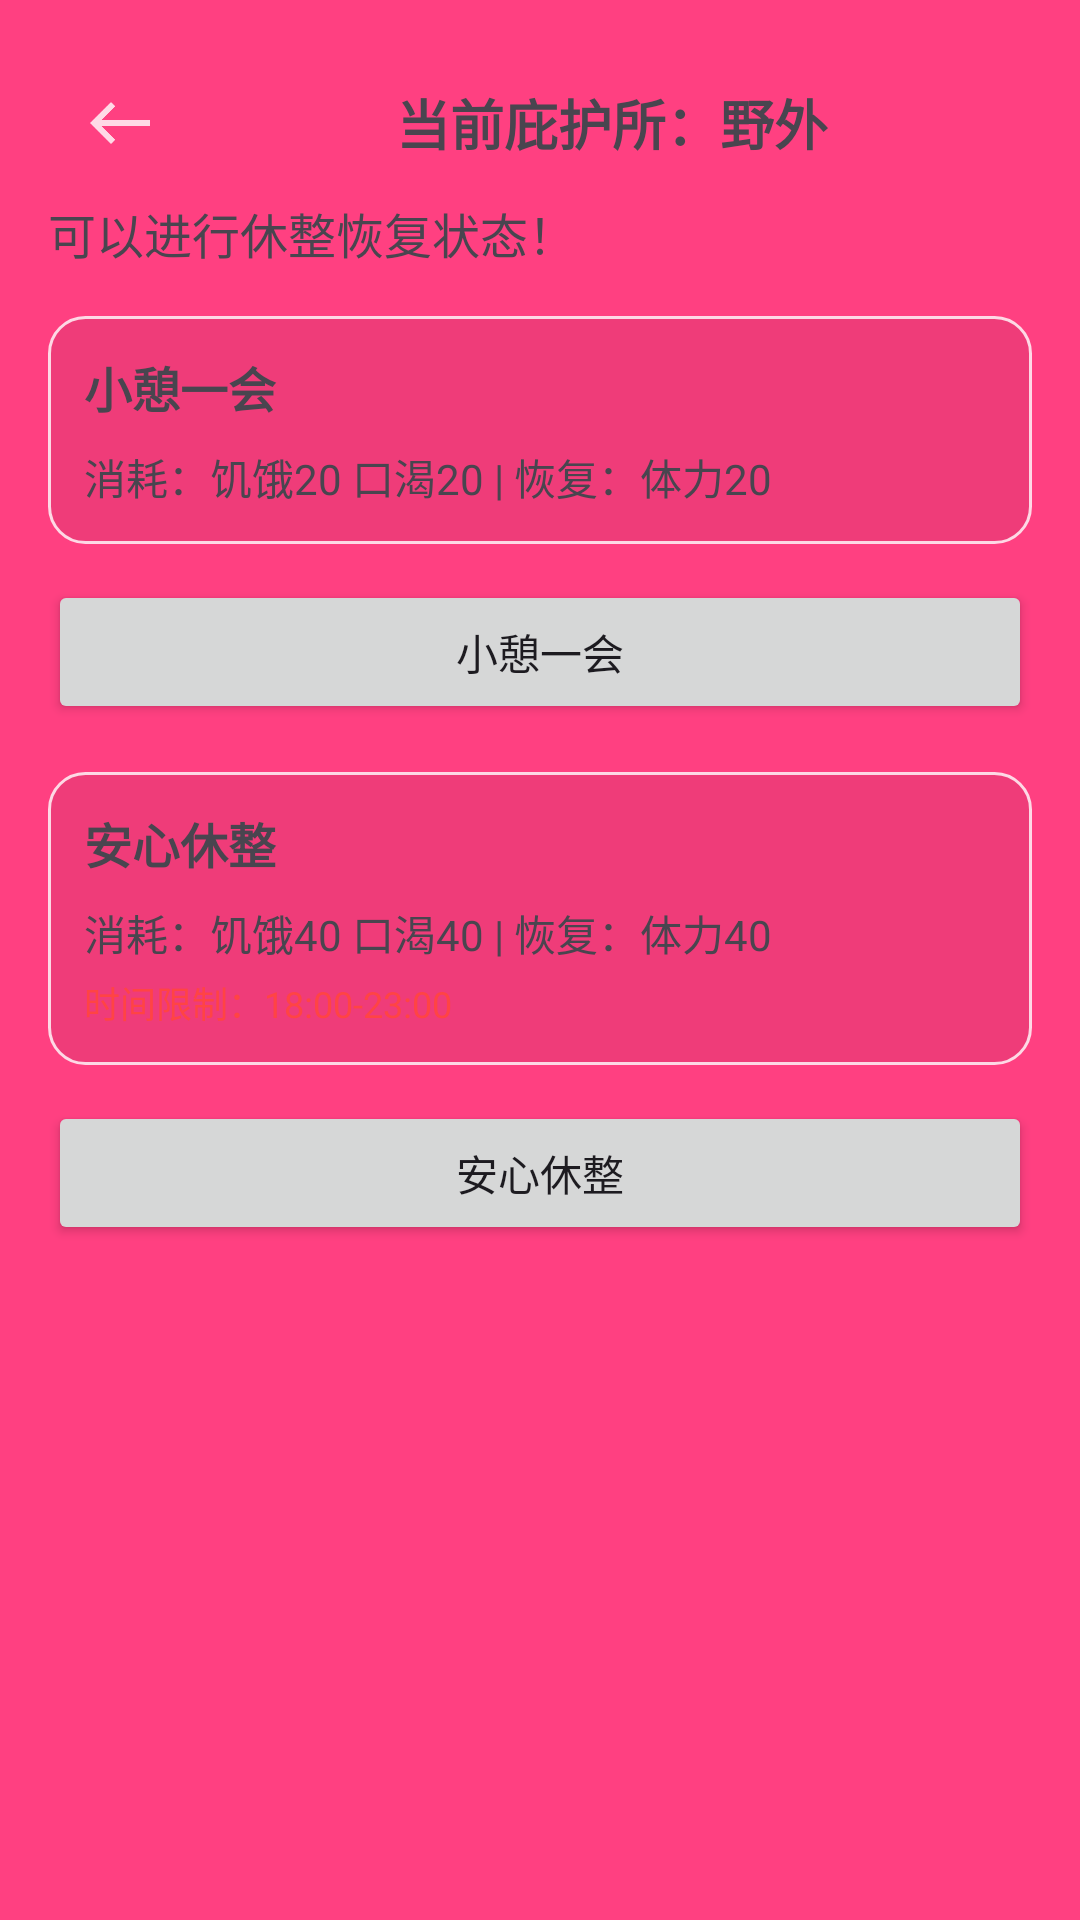

Named icons in this screenshot (1080 × 1920) and their bounding boxes, [x1=x1, y1=y1, x2=x2, y2=y2]:
返回: [x1=90, y1=102, x2=150, y2=144]
